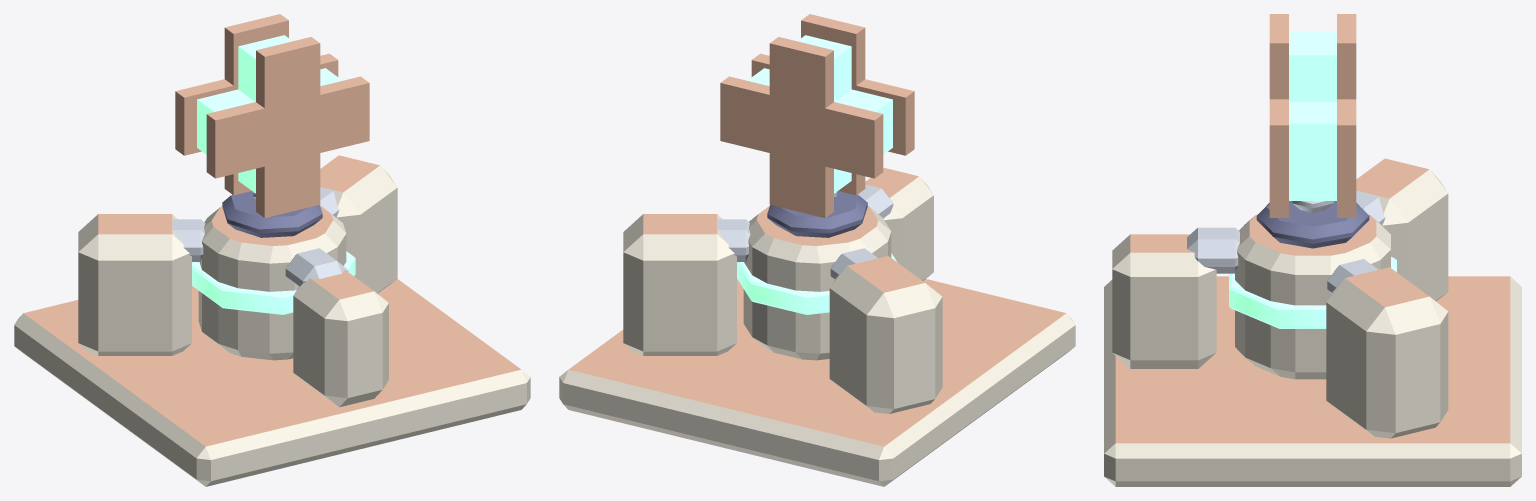
The model's file is R4X_RepairTurretDeployer_LOD1.fbx.
The picture shows the model from 3 angles, left to right: view 1: azimuth 30°, elevation 25°; view 2: azimuth 150°, elevation 25°; view 3: azimuth 270°, elevation 25°; orthographic projection. The views are drawn at different scales.
Parts seen in each view (by area): view 1: R4X_RepairTurretDeployer_LOD1; view 2: R4X_RepairTurretDeployer_LOD1; view 3: R4X_RepairTurretDeployer_LOD1.
Part boxes in pixels (bbox=[...]): R4X_RepairTurretDeployer_LOD1: bbox=[14, 14, 530, 486]; R4X_RepairTurretDeployer_LOD1: bbox=[559, 14, 1075, 486]; R4X_RepairTurretDeployer_LOD1: bbox=[1104, 14, 1521, 486].
Size of the model in its own units: 0.52 by 0.515 by 0.52.
